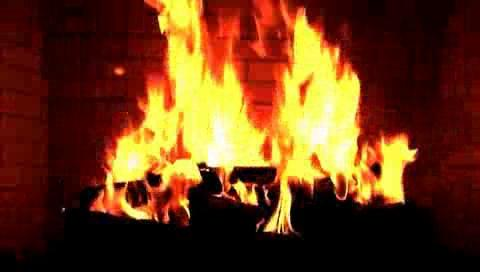fire: (119, 17, 383, 217)
